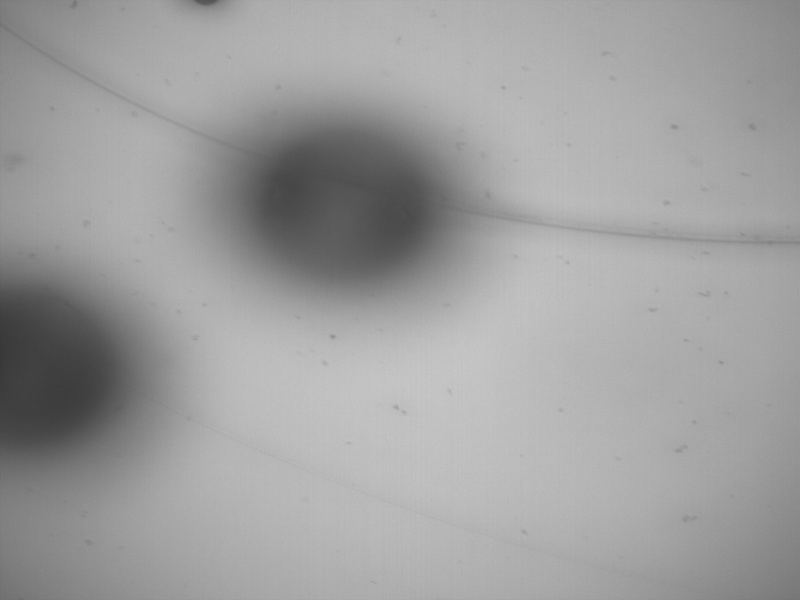bead: (255, 133, 437, 281), (1, 277, 117, 452), (192, 1, 220, 7)
